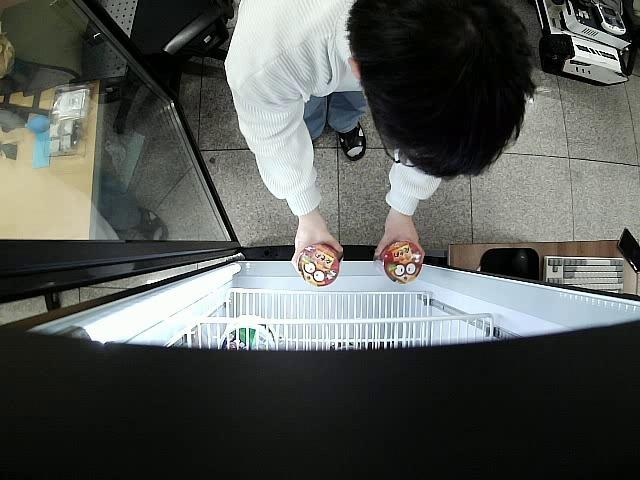06_nuguri_S: (375, 241, 423, 283), (298, 242, 340, 287)
